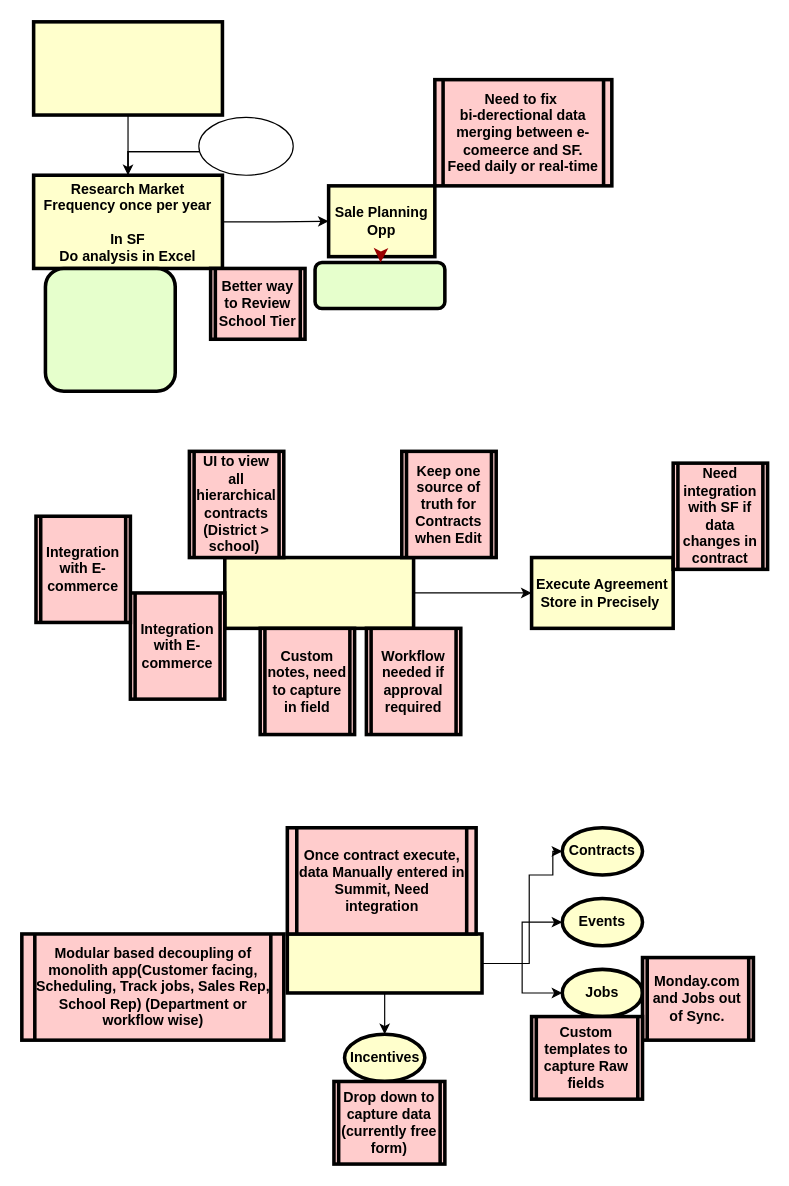
The diagram is 789 pixels wide and 1186 high, and some of its shapes have lost their labels. Each missing label, with the centre of its shape:
Contracts Stored in SF and Monday.com: (318,592)
Easy acquisition integration: (379,285)
External Feed: (127,67)
Lunch paid Location partner competitors: (109,329)
Main School CRM DB - SUMMIT: (384,963)
Owns by Philip/Nikki: (245,145)
